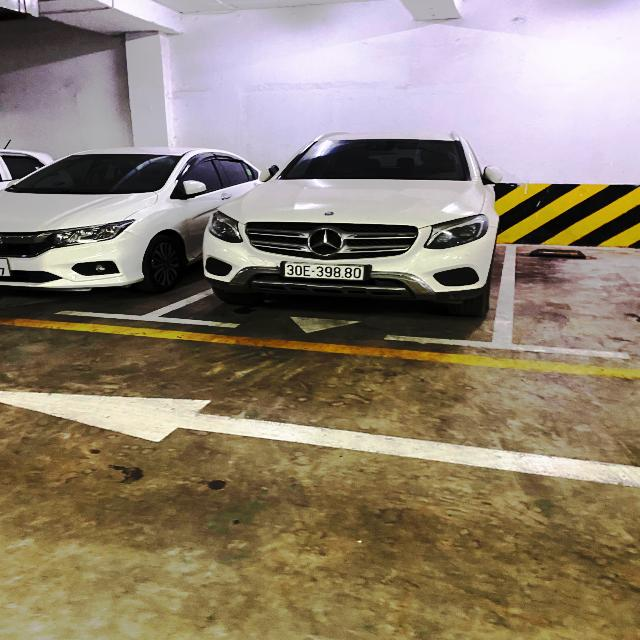license_plate: (280, 261, 369, 284)
